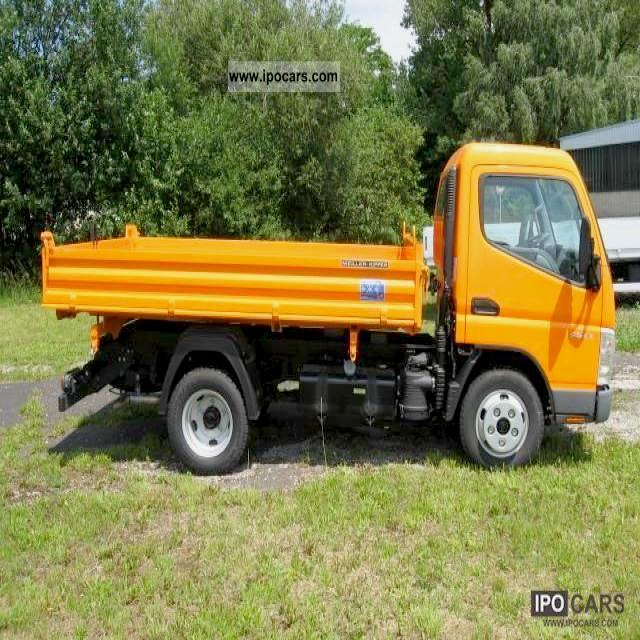truck: (39, 145, 617, 470)
